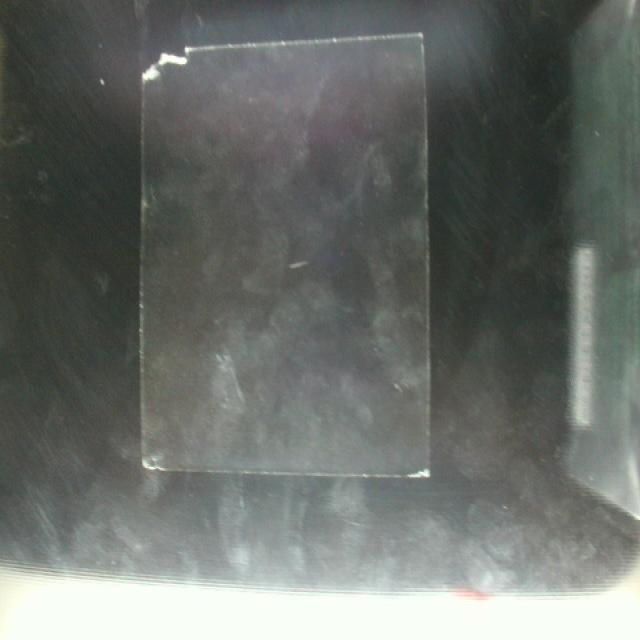edge_chip: (138, 40, 204, 100), (138, 437, 170, 483), (400, 454, 436, 488)
scratch: (281, 250, 311, 280)
